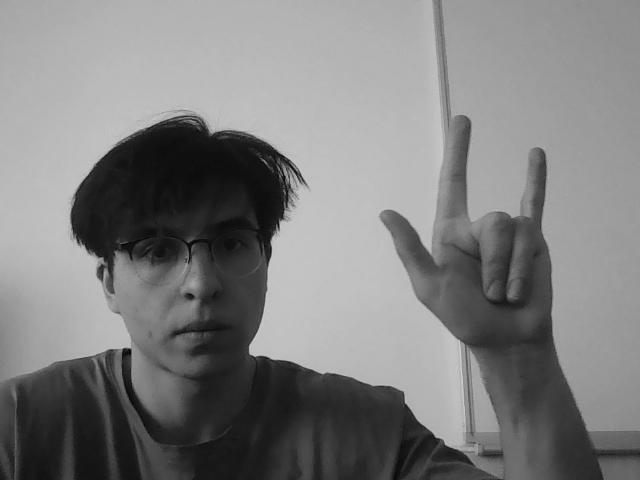I_Love_You: (390, 128, 580, 336)
